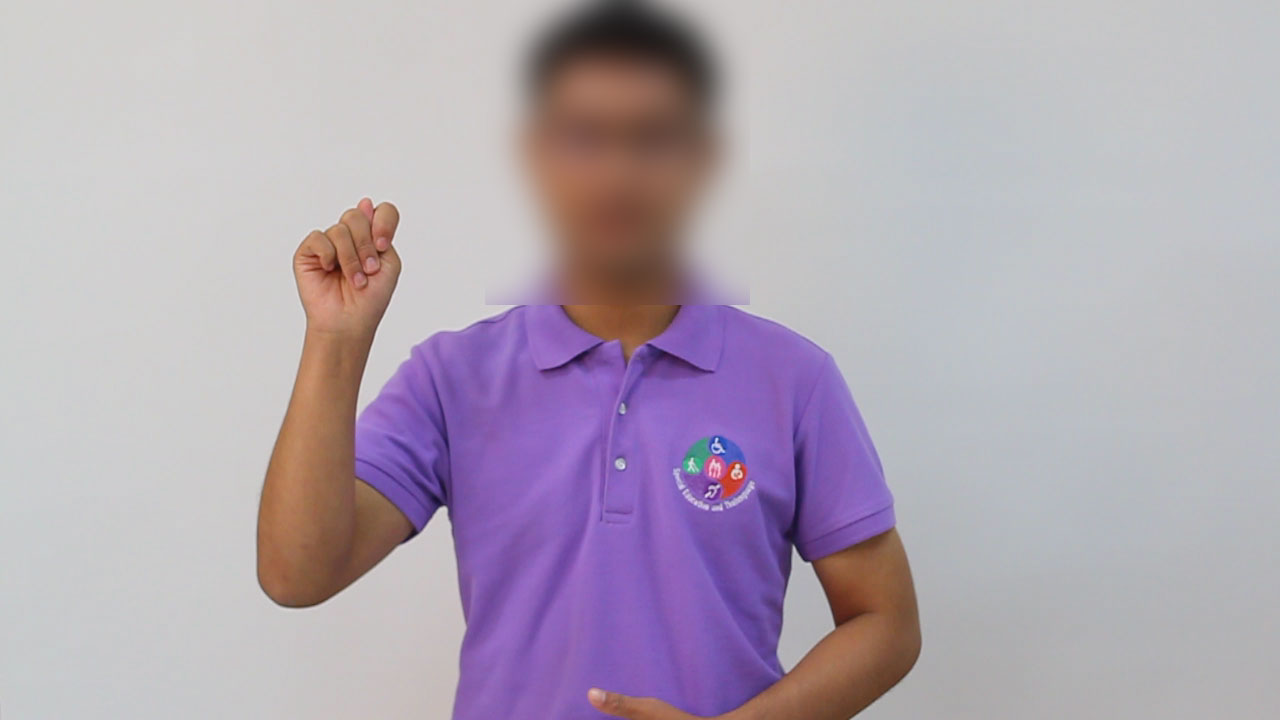tor: (286, 194, 409, 343)
